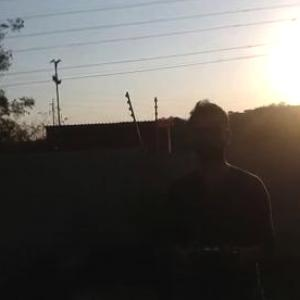follow: (156, 94, 280, 299)
